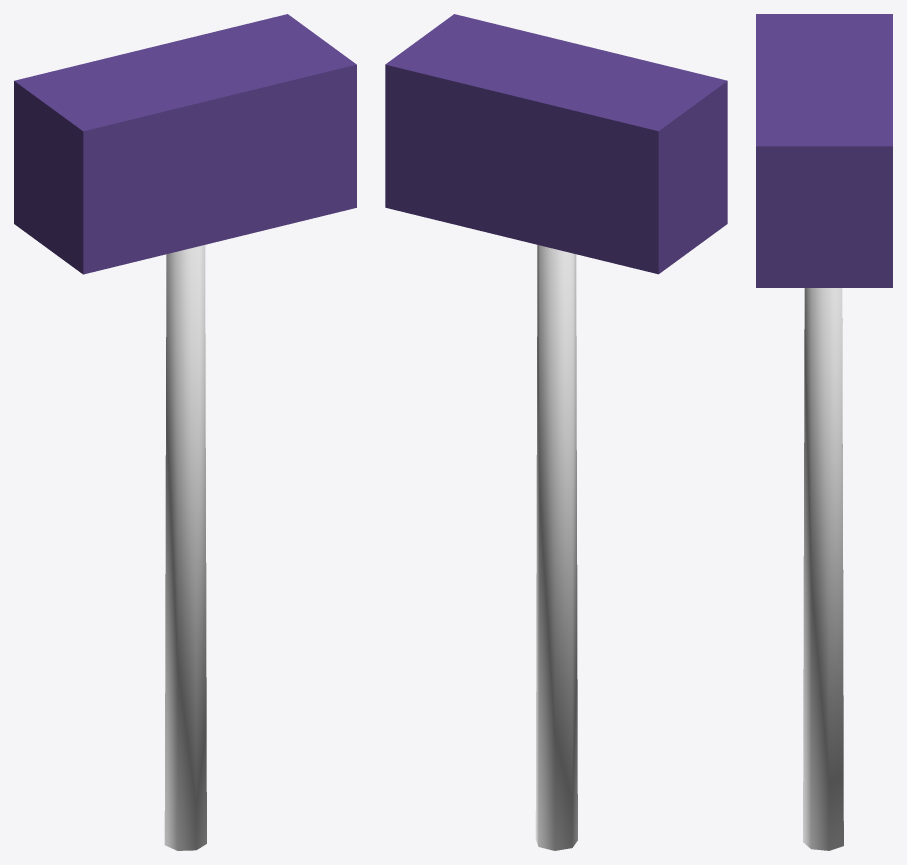
File: umbrite_hammer.glb
3 renders of one model, left to right at view 1: azimuth 30°, elevation 25°; view 2: azimuth 150°, elevation 25°; view 3: azimuth 270°, elevation 25°, orthographic.
Parts seen in each view (by area): view 1: umbrite_hammer_v0; view 2: umbrite_hammer_v0; view 3: umbrite_hammer_v0.
Part boxes in pixels (x1=…): umbrite_hammer_v0: x1=14, y1=14, x2=356, y2=850; umbrite_hammer_v0: x1=385, y1=14, x2=727, y2=850; umbrite_hammer_v0: x1=756, y1=14, x2=892, y2=850.
Bounding box in the file's own units: 0.32 × 0.86 × 0.14.
